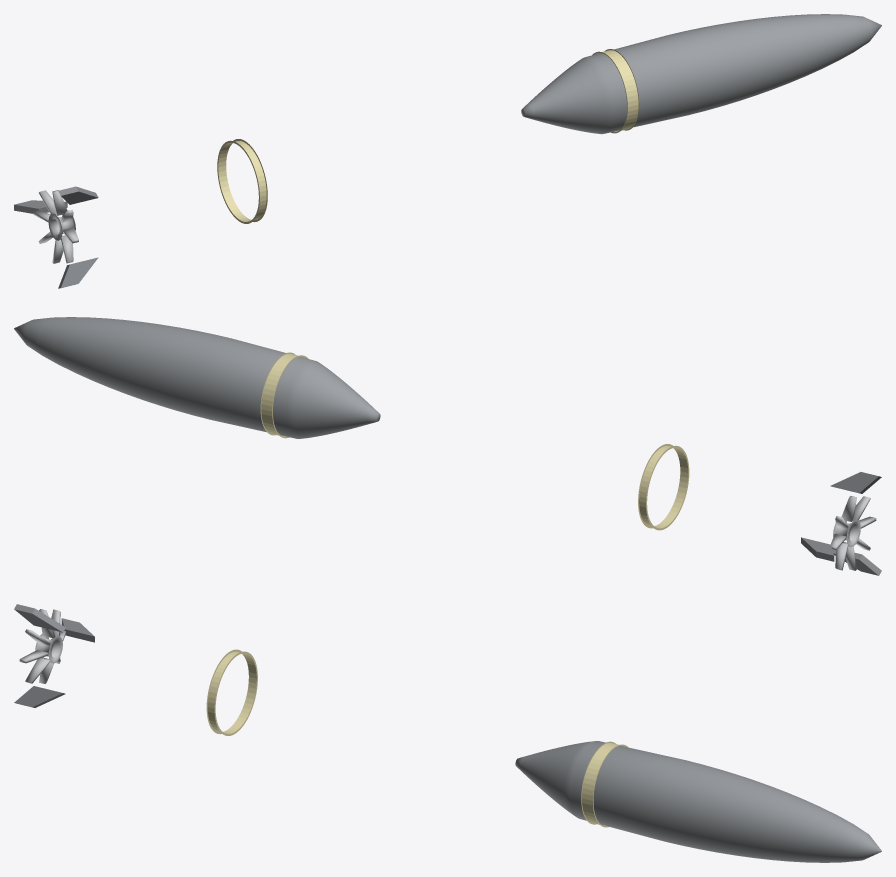
The model's file is US_TORP_Mk14_LOD0.fbx.
3 renders of one model, top to bottom at view 1: azimuth 30°, elevation 25°; view 2: azimuth 150°, elevation 25°; view 3: azimuth 330°, elevation 25°, orthographic.
Visible parts, largest first — view 1: WPN_US_TORP_Mk14_LOD0_Body, WPN_US_TORP_Mk14_LOD0_Marking, WPN_US_TORP_Mk14_LOD0_Propulsor, WPN_US_TORP_Mk14_LOD0_Fins; view 2: WPN_US_TORP_Mk14_LOD0_Body, WPN_US_TORP_Mk14_LOD0_Marking, WPN_US_TORP_Mk14_LOD0_Propulsor, WPN_US_TORP_Mk14_LOD0_Fins; view 3: WPN_US_TORP_Mk14_LOD0_Body, WPN_US_TORP_Mk14_LOD0_Marking, WPN_US_TORP_Mk14_LOD0_Fins, WPN_US_TORP_Mk14_LOD0_Propulsor.
Boxes of the visible parts, x1,y1,x2,y2 form: WPN_US_TORP_Mk14_LOD0_Body: (521,14,881,134); WPN_US_TORP_Mk14_LOD0_Marking: (217,49,639,223); WPN_US_TORP_Mk14_LOD0_Propulsor: (33,190,78,263); WPN_US_TORP_Mk14_LOD0_Fins: (14,186,98,288); WPN_US_TORP_Mk14_LOD0_Body: (14,317,380,438); WPN_US_TORP_Mk14_LOD0_Marking: (260,352,689,530); WPN_US_TORP_Mk14_LOD0_Propulsor: (830,496,876,570); WPN_US_TORP_Mk14_LOD0_Fins: (801,472,881,575); WPN_US_TORP_Mk14_LOD0_Body: (515,741,881,862); WPN_US_TORP_Mk14_LOD0_Marking: (206,649,628,827); WPN_US_TORP_Mk14_LOD0_Fins: (14,604,94,707); WPN_US_TORP_Mk14_LOD0_Propulsor: (19,609,65,683).
Bounding box in the file's own units: 6.22 × 0.6644 × 0.6967.
